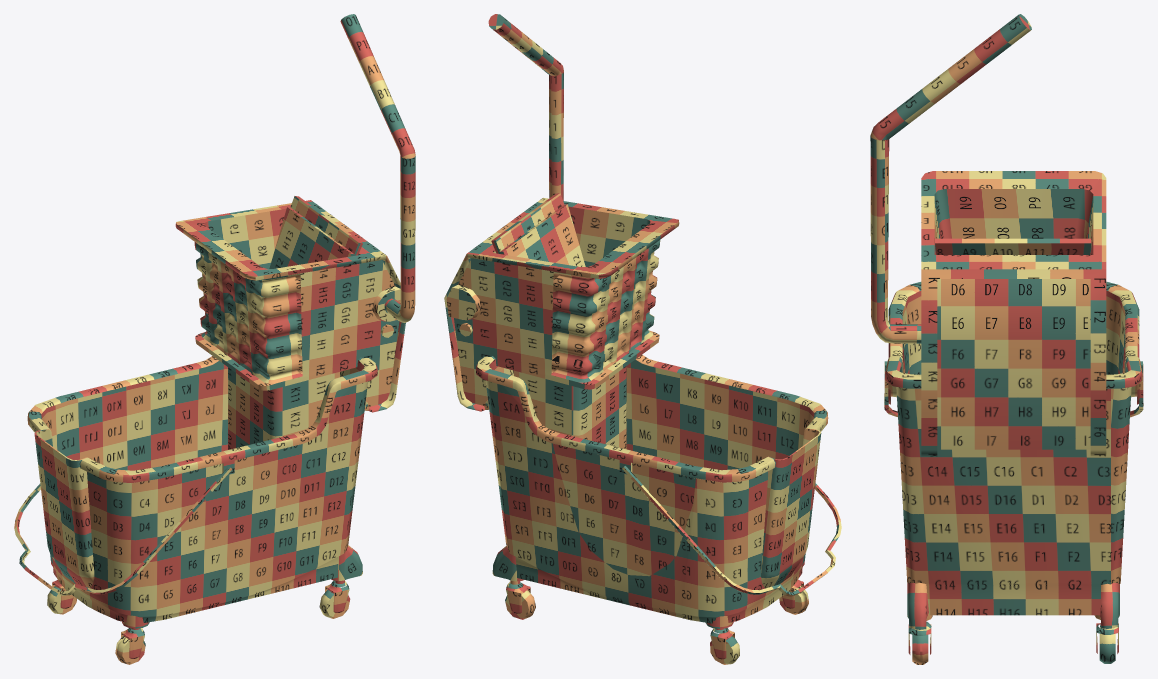
The model's file is SM_Bucket_01a.fbx.
3 views of the same model, side by side, from view 1: azimuth 30°, elevation 25°; view 2: azimuth 150°, elevation 25°; view 3: azimuth 270°, elevation 25° (orthographic). The views are drawn at different scales.
Visible parts, largest first — view 1: SM_Bucket_01a; view 2: SM_Bucket_01a; view 3: SM_Bucket_01a.
Part boxes in pixels (<box>): SM_Bucket_01a: <box>14,14,415,664</box>; SM_Bucket_01a: <box>444,14,841,664</box>; SM_Bucket_01a: <box>870,14,1143,664</box>.
Size of the model in its own units: 87.87 by 142 by 51.46.
